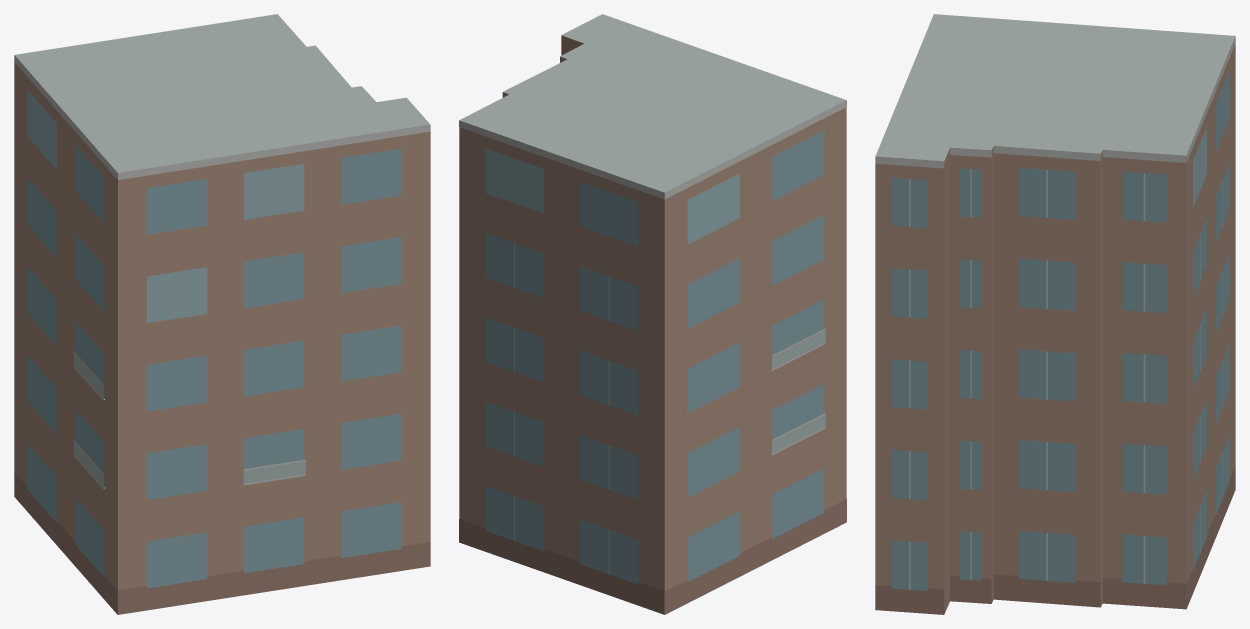
Rendered from survey-upis-32714800.glb.
3 renders of one model, left to right at view 1: azimuth 30°, elevation 25°; view 2: azimuth 150°, elevation 25°; view 3: azimuth 270°, elevation 25°, orthographic. The views are drawn at different scales.
Visible parts, largest first — view 1: survey-upis-32714800.tmp; view 2: survey-upis-32714800.tmp; view 3: survey-upis-32714800.tmp.
Boxes of the visible parts, bbox=[...] form: survey-upis-32714800.tmp: bbox=[14, 14, 430, 614]; survey-upis-32714800.tmp: bbox=[459, 14, 846, 614]; survey-upis-32714800.tmp: bbox=[875, 14, 1235, 614].
Size of the model in its own units: 10.63 by 15.25 by 10.99.
